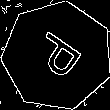P_SE: (25, 26, 89, 86)
